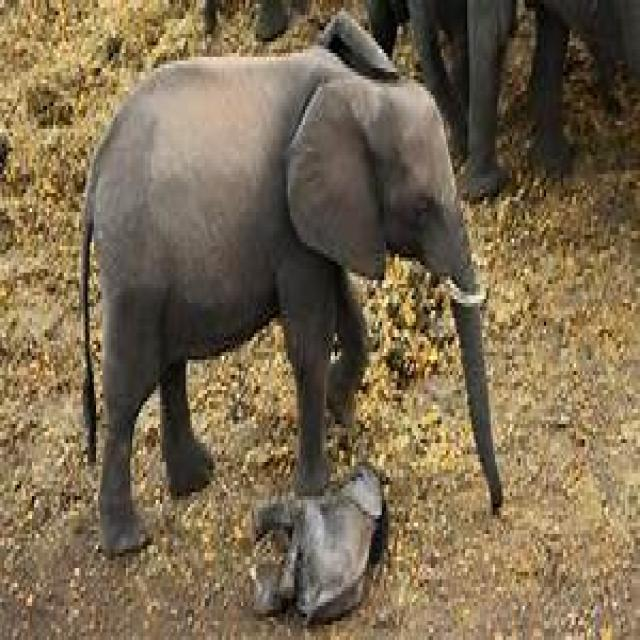elephant: (79, 15, 503, 625)
